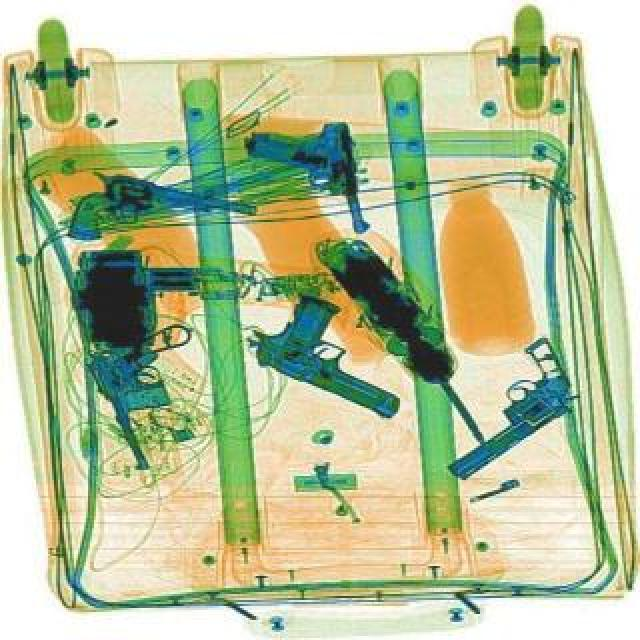gun: (408, 334, 592, 486), (236, 278, 430, 420), (64, 166, 258, 274), (240, 116, 368, 248), (80, 332, 194, 476)
